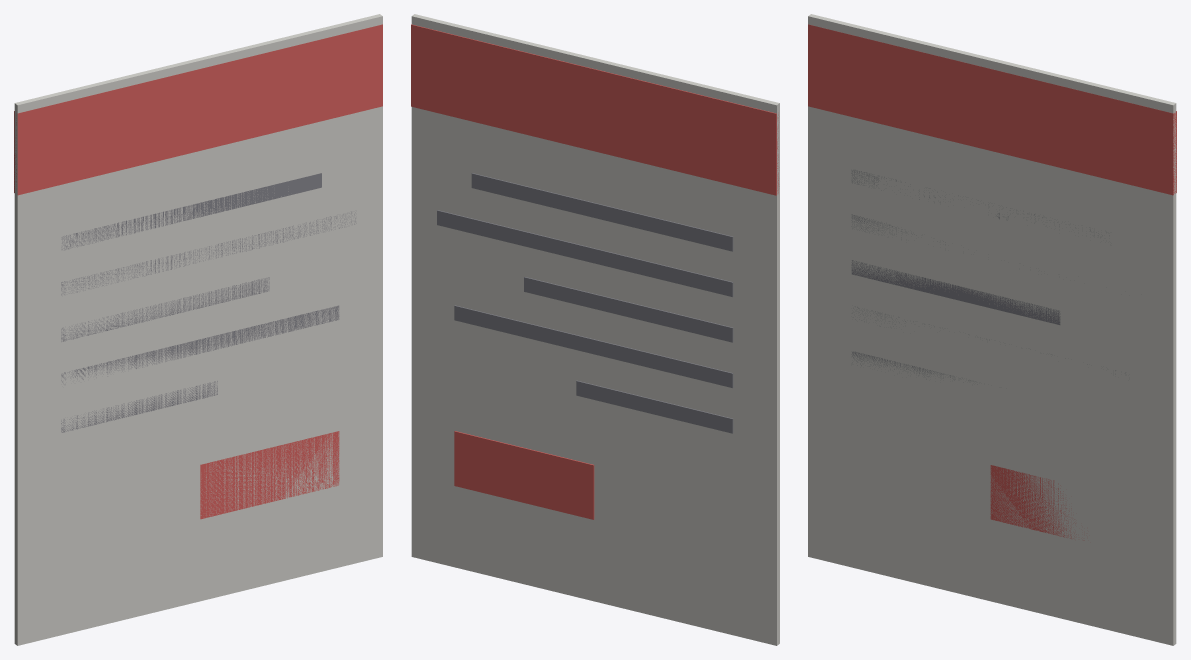
Rendered from rent_bill.fbx.
3 renders of one model, left to right at view 1: azimuth 30°, elevation 25°; view 2: azimuth 150°, elevation 25°; view 3: azimuth 330°, elevation 25°, orthographic.
Parts seen in each view (by area): view 1: rent_bill; view 2: rent_bill; view 3: rent_bill.
Part boxes in pixels (x1,y1,x2,y2): rent_bill: [14, 14, 382, 645]; rent_bill: [411, 14, 779, 645]; rent_bill: [808, 14, 1176, 645].
Bounding box in the file's own units: 0.21 × 0.297 × 0.00365.
